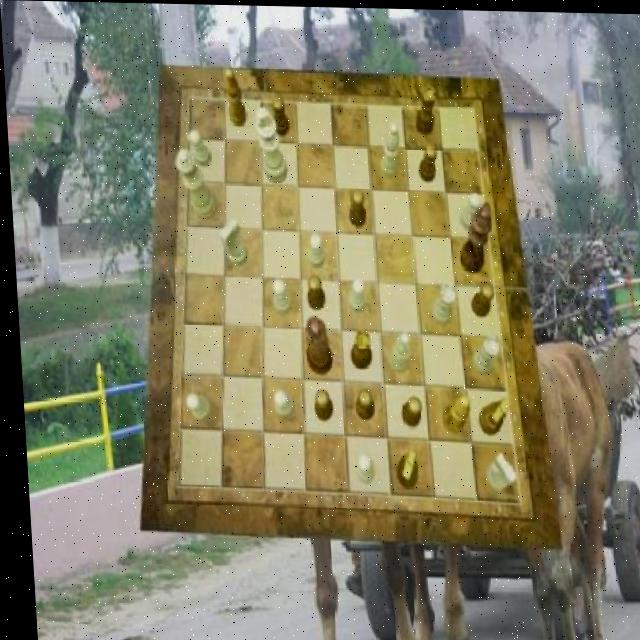bishop: (223, 67, 246, 126), (437, 394, 466, 433)
black-bishop: (454, 200, 493, 273)
black-king: (473, 396, 507, 435), (389, 448, 413, 486)
black-knight: (467, 280, 493, 315), (415, 142, 436, 181), (345, 188, 364, 226), (270, 95, 288, 134), (396, 394, 418, 425), (349, 387, 370, 419), (308, 388, 328, 421), (303, 274, 322, 308)
black-pawn: (300, 316, 329, 375)
black-queen: (412, 84, 437, 134), (345, 329, 368, 369)
black-rook: (375, 119, 399, 177), (382, 330, 408, 372)
white-bishop: (253, 106, 287, 182)
white-king: (215, 217, 245, 265), (479, 451, 512, 490)
white-knight: (455, 191, 479, 229), (187, 128, 211, 166), (180, 394, 206, 422), (268, 278, 287, 315), (349, 450, 370, 482), (343, 275, 362, 310), (303, 233, 322, 267), (267, 389, 288, 417)
white-pawn: (172, 147, 215, 219)
white-queen: (466, 334, 497, 372), (427, 281, 453, 324)
